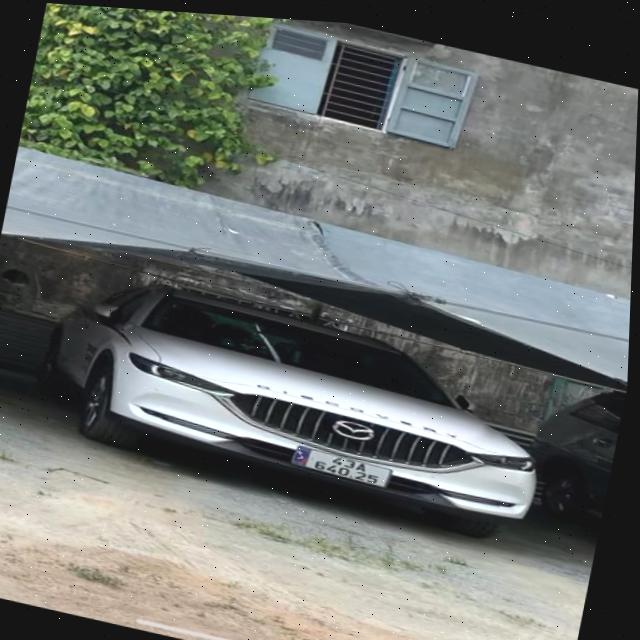car: (25, 247, 571, 566)
plate: (278, 431, 406, 501)
